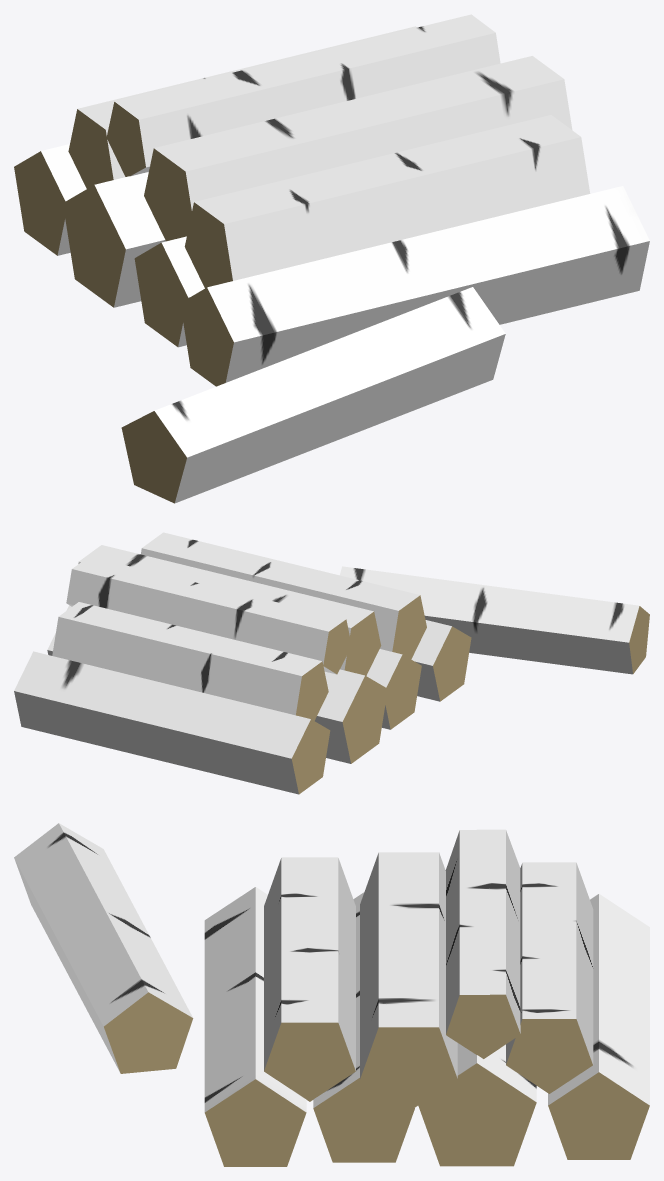
The model's file is Birch_Firewood_Pile_02.fbx.
3 renders of one model, top to bottom at view 1: azimuth 30°, elevation 25°; view 2: azimuth 150°, elevation 25°; view 3: azimuth 270°, elevation 25°, orthographic. The views are drawn at different scales.
Parts seen in each view (by area): view 1: Birch_Firewood_Pile_02; view 2: Birch_Firewood_Pile_02; view 3: Birch_Firewood_Pile_02.
Boxes of the visible parts, bbox=[...] form: Birch_Firewood_Pile_02: bbox=[14, 14, 649, 503]; Birch_Firewood_Pile_02: bbox=[14, 532, 649, 794]; Birch_Firewood_Pile_02: bbox=[14, 823, 649, 1166].
Bounding box in the file's own units: 83.35 × 23.34 × 82.4.
